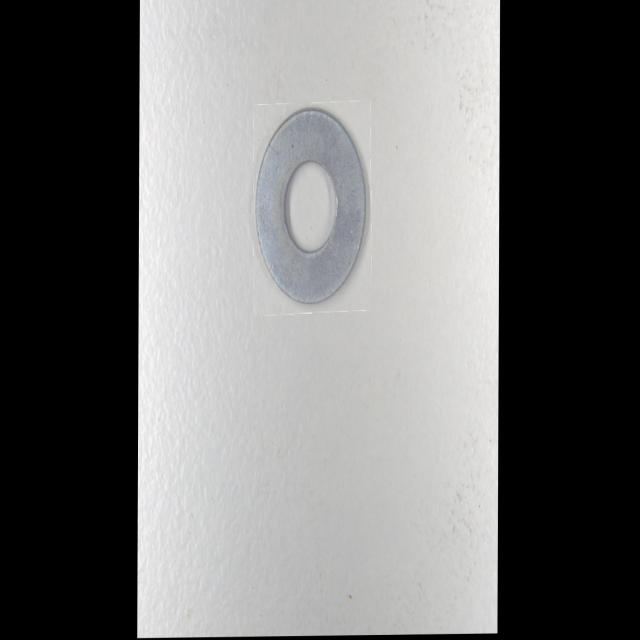washer: (254, 104, 371, 313)
